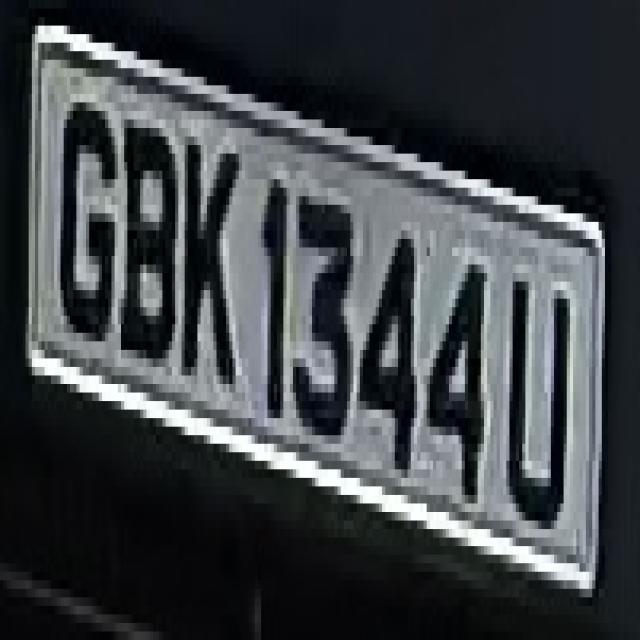1: (255, 162, 293, 444)
3: (284, 145, 354, 461)
4: (420, 205, 497, 538), (353, 205, 430, 503)
B: (121, 102, 175, 376)
G: (54, 77, 115, 350)
K: (185, 103, 245, 418)
U: (497, 239, 573, 546)
